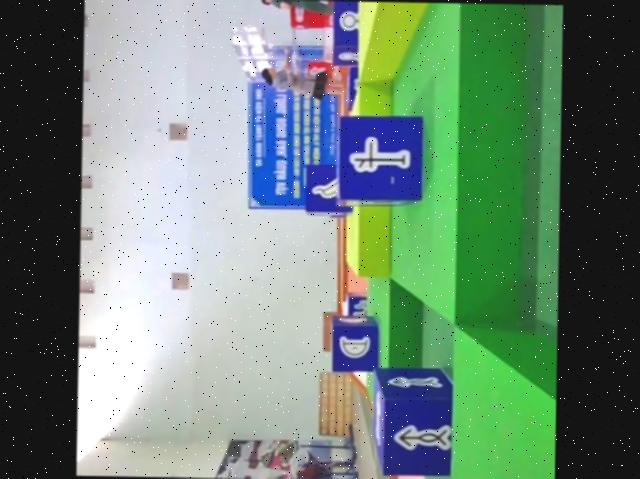R2 Real Blue: (373, 366, 455, 476), (336, 111, 425, 206), (331, 314, 382, 373), (307, 164, 356, 218), (333, 1, 361, 61)
